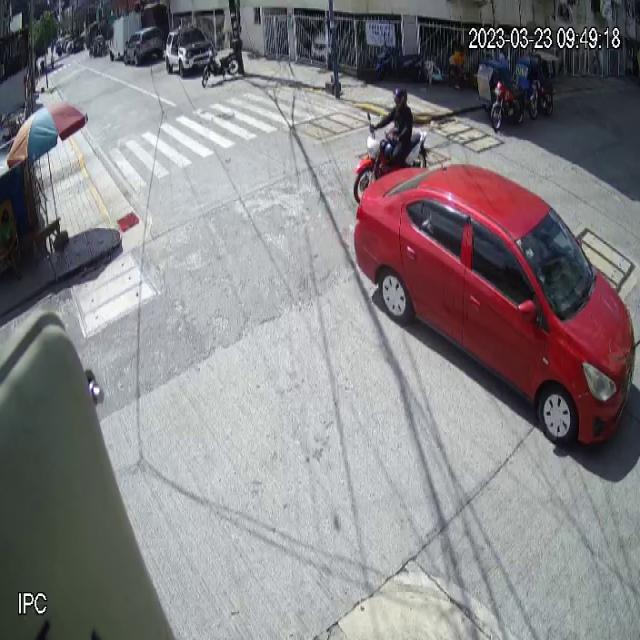Car: (354, 157, 636, 456)
Tricycle: (476, 55, 526, 131)
